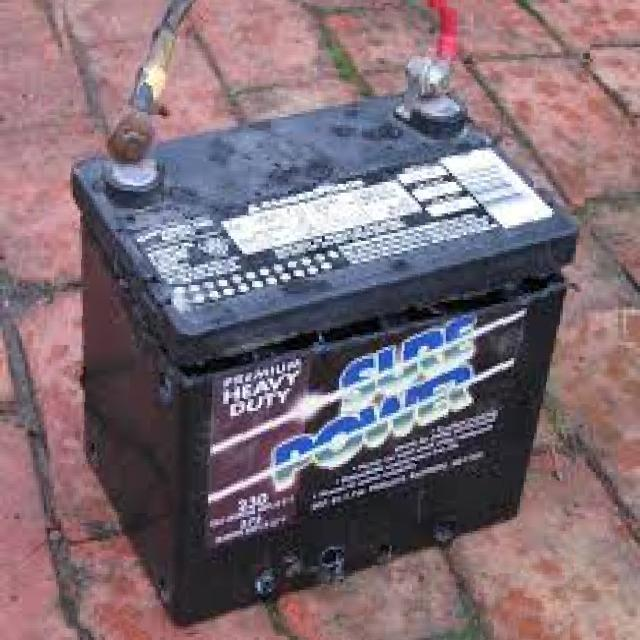Battery: (61, 48, 587, 608)
